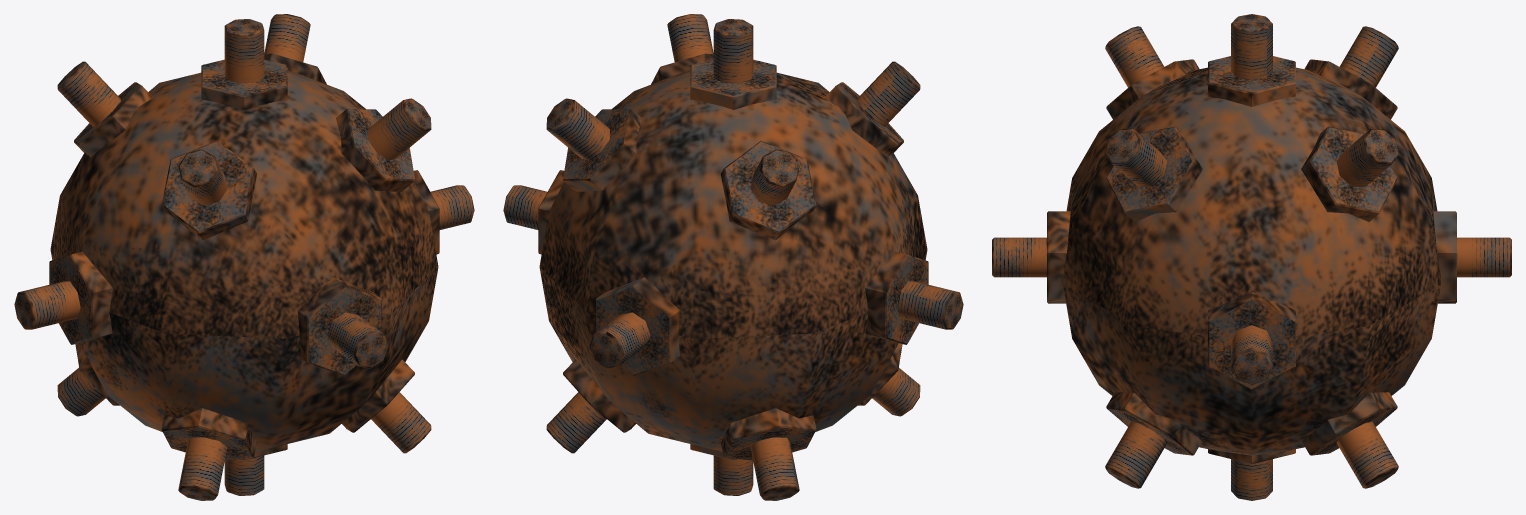
Rendered from NavalMine.fbx.
3 renders of one model, left to right at view 1: azimuth 30°, elevation 25°; view 2: azimuth 150°, elevation 25°; view 3: azimuth 270°, elevation 25°, orthographic.
Parts seen in each view (by area): view 1: pSphere2; view 2: pSphere2; view 3: pSphere2.
Boxes of the visible parts, box(x1,y1,x2,y2) form: pSphere2: box(14, 14, 474, 500); pSphere2: box(503, 14, 963, 500); pSphere2: box(992, 14, 1511, 500).
Bounding box in the file's own units: 2.61 × 2.61 × 2.61.
